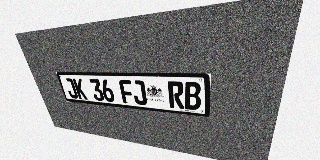3: (89, 79, 105, 101)
6: (99, 79, 115, 102)
B: (184, 82, 201, 111)
F: (118, 80, 135, 104)
J: (131, 80, 147, 105), (63, 78, 79, 99)
K: (72, 78, 88, 100)
R: (167, 81, 184, 109)
